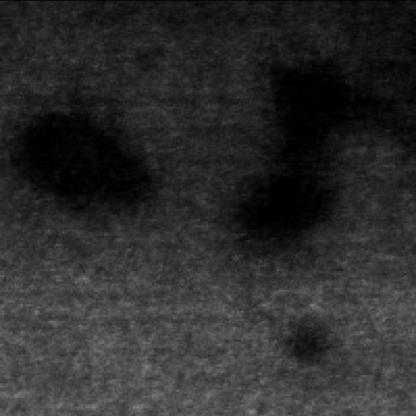patches: (262, 56, 395, 227), (6, 104, 150, 214), (225, 156, 335, 260), (281, 312, 335, 366)
